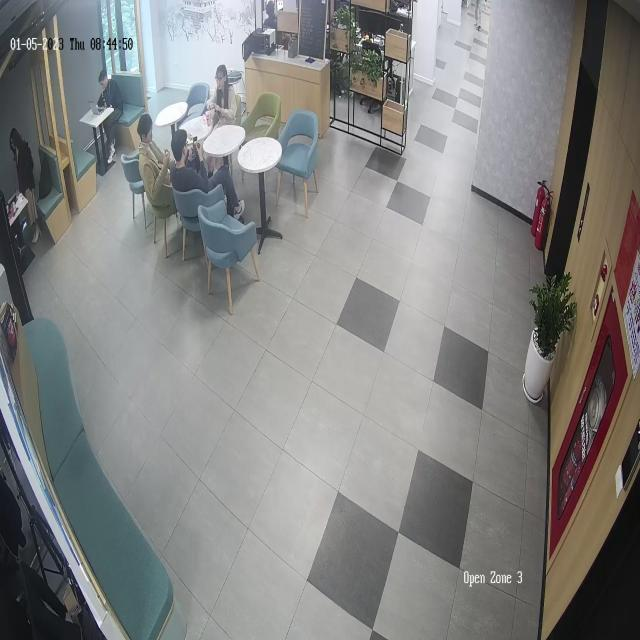person: (171, 123, 249, 222), (5, 126, 42, 248), (137, 113, 175, 211), (97, 66, 126, 162), (209, 63, 237, 126)
